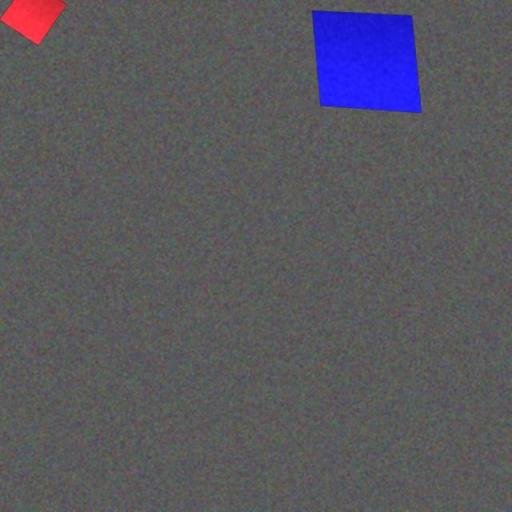BLUE_SQUARE: (312, 10, 422, 114)
RED_SQUARE: (0, 0, 68, 46)
